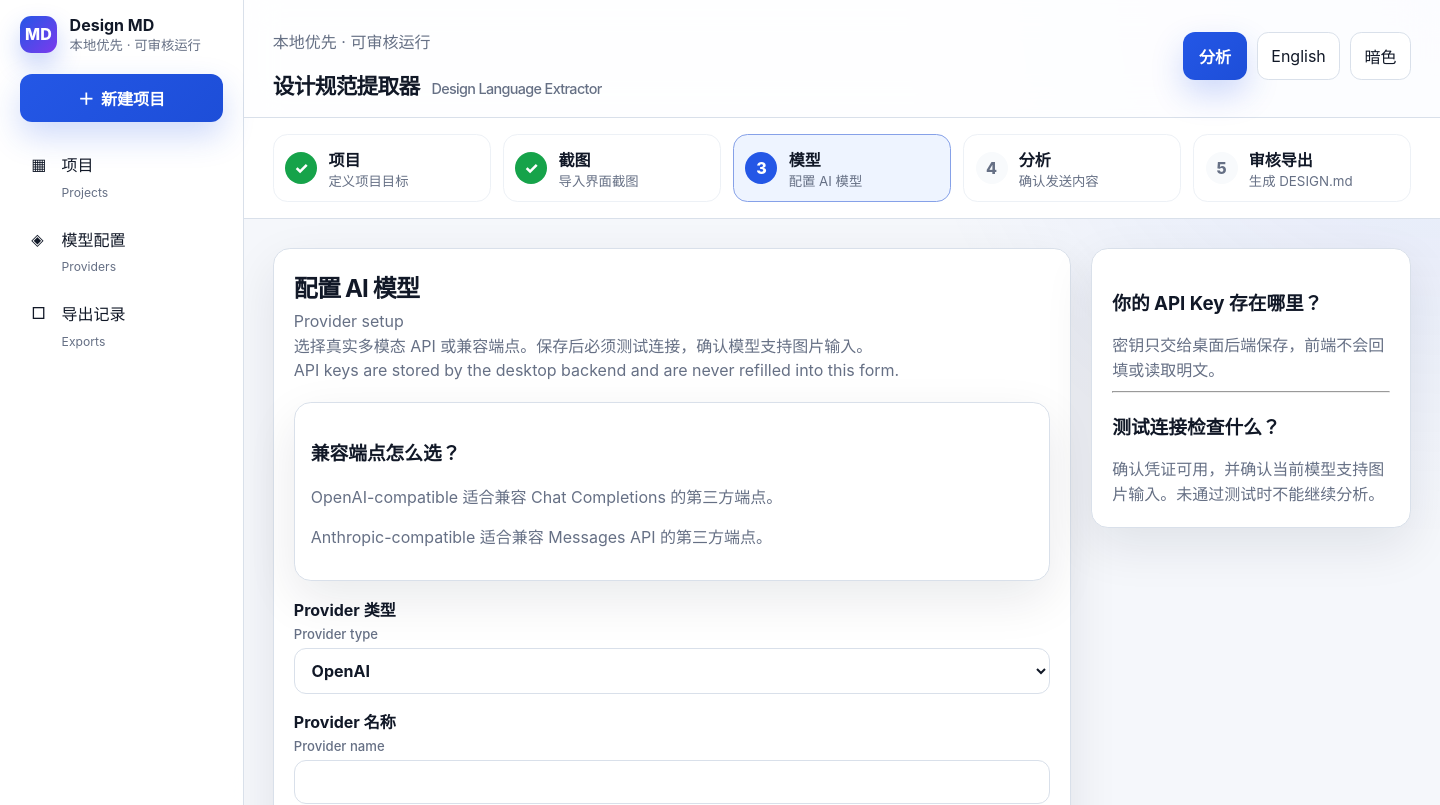
Test: ProviderSettingsPage › saves an OpenAI-compatible provider and shows only a secure key placeholder
This screenshot has width=1440, height=805.
Expected: the text "配置 AI 模型" is shown, [789,171,862,190]
Expected: the text "OpenAI-compatible 适合兼容 Chat Completions 的第三方端点。" is shown, [311,487,782,507]
Select "OpenAI-compatible" in the dropdown labelled "Provider type" at {"x": 672, "y": 671}, box [294,648,1050,694]
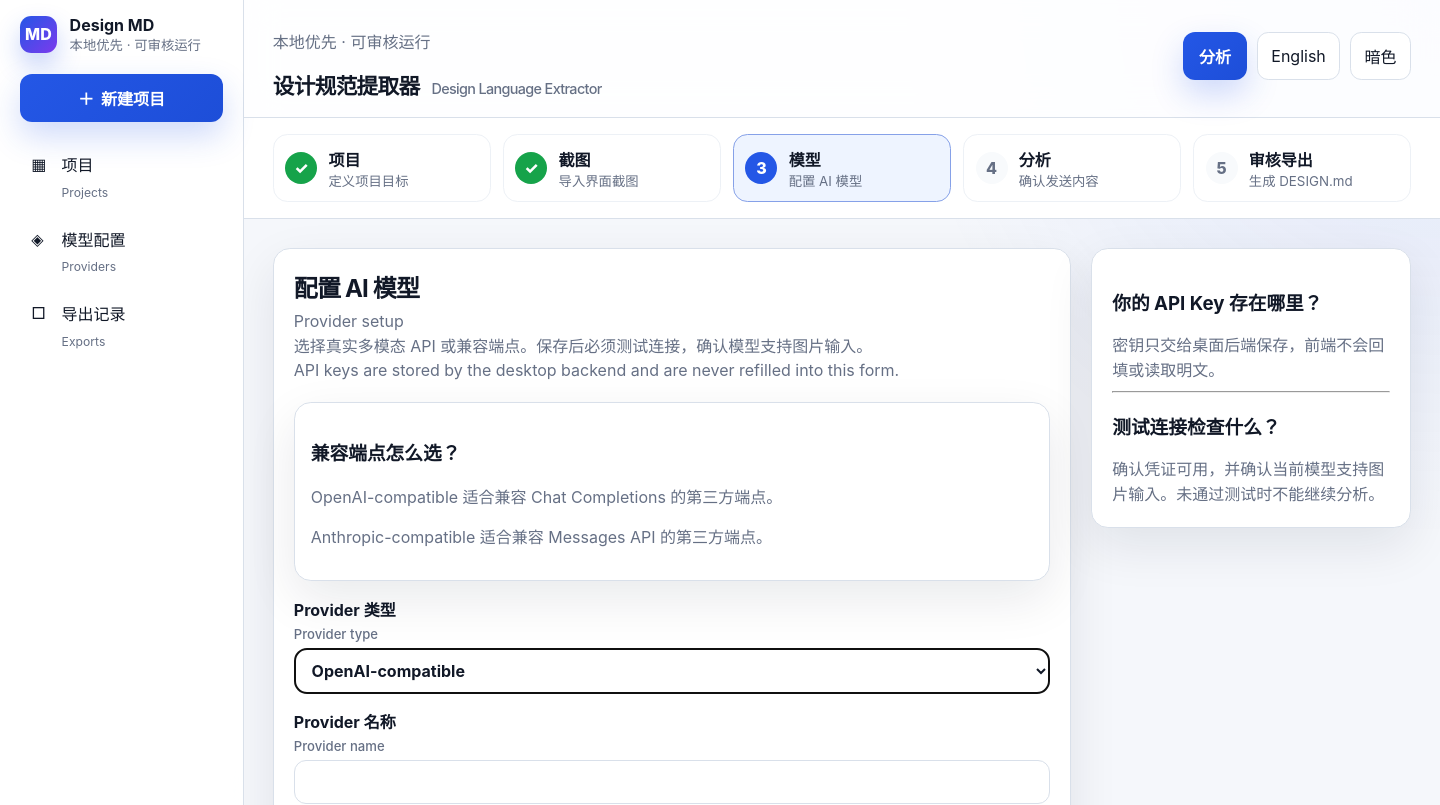
Type "My endpoint" into the field labelled "Provider name" at {"x": 672, "y": 782}, box [294,760,1050,804]
(page scrolled)
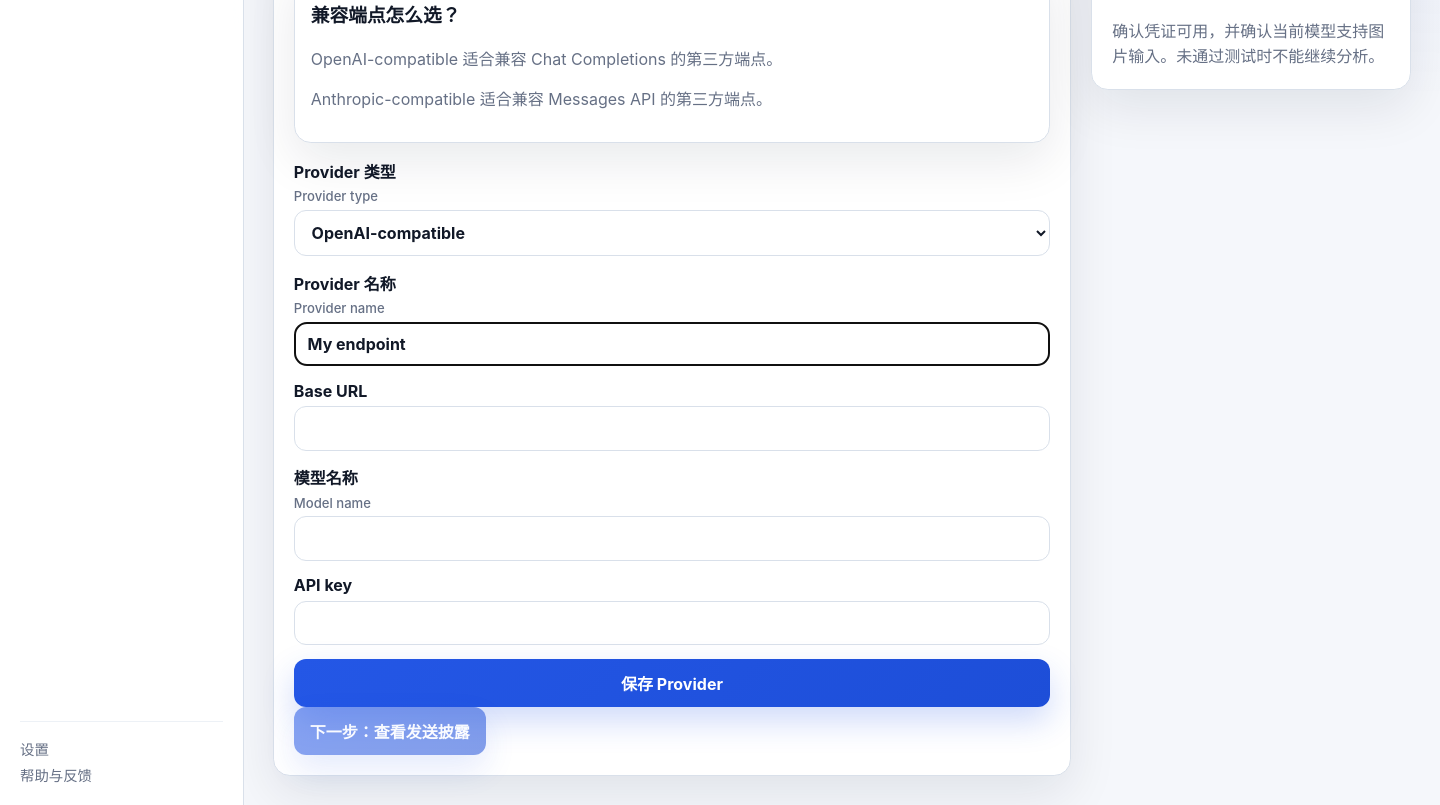
Type "https://ai.example.com/v1" into the field labelled "Base URL" at {"x": 672, "y": 428}, box [294,406,1050,451]
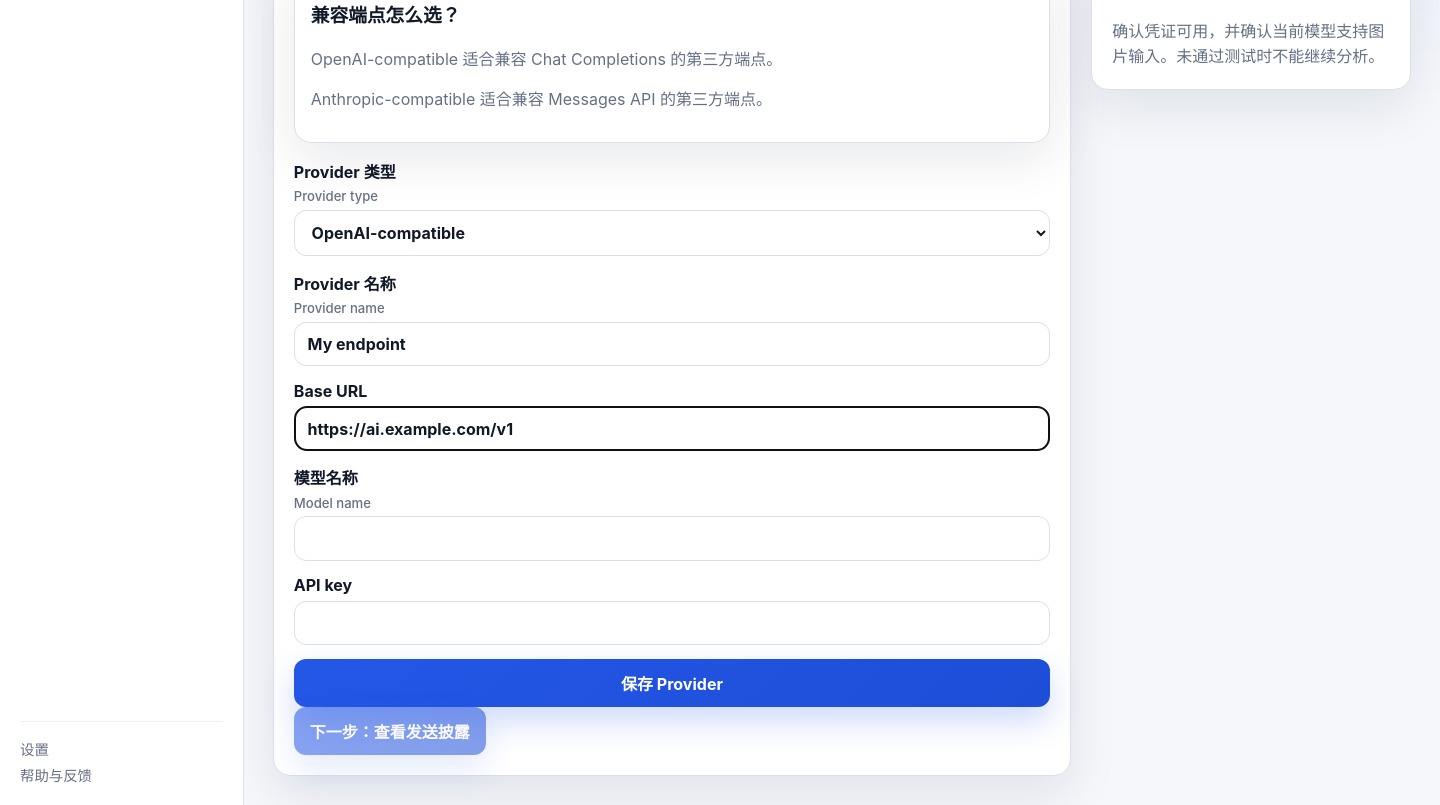
Type "vision-model" into the field labelled "Model name" at {"x": 672, "y": 538}, box [294,516,1050,561]
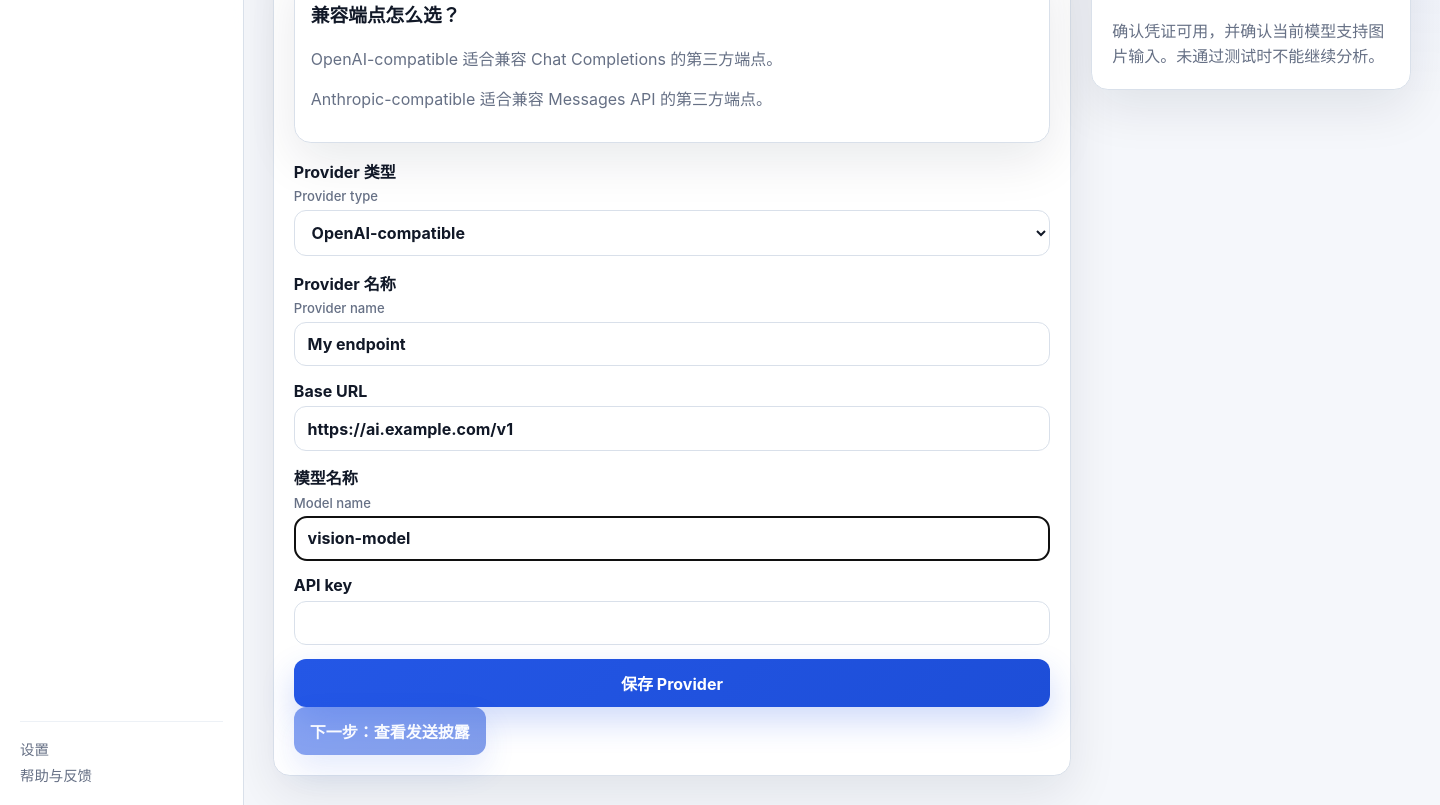
Type "sk-secret" into the password field labelled "API key" at {"x": 672, "y": 623}, box [294,601,1050,645]
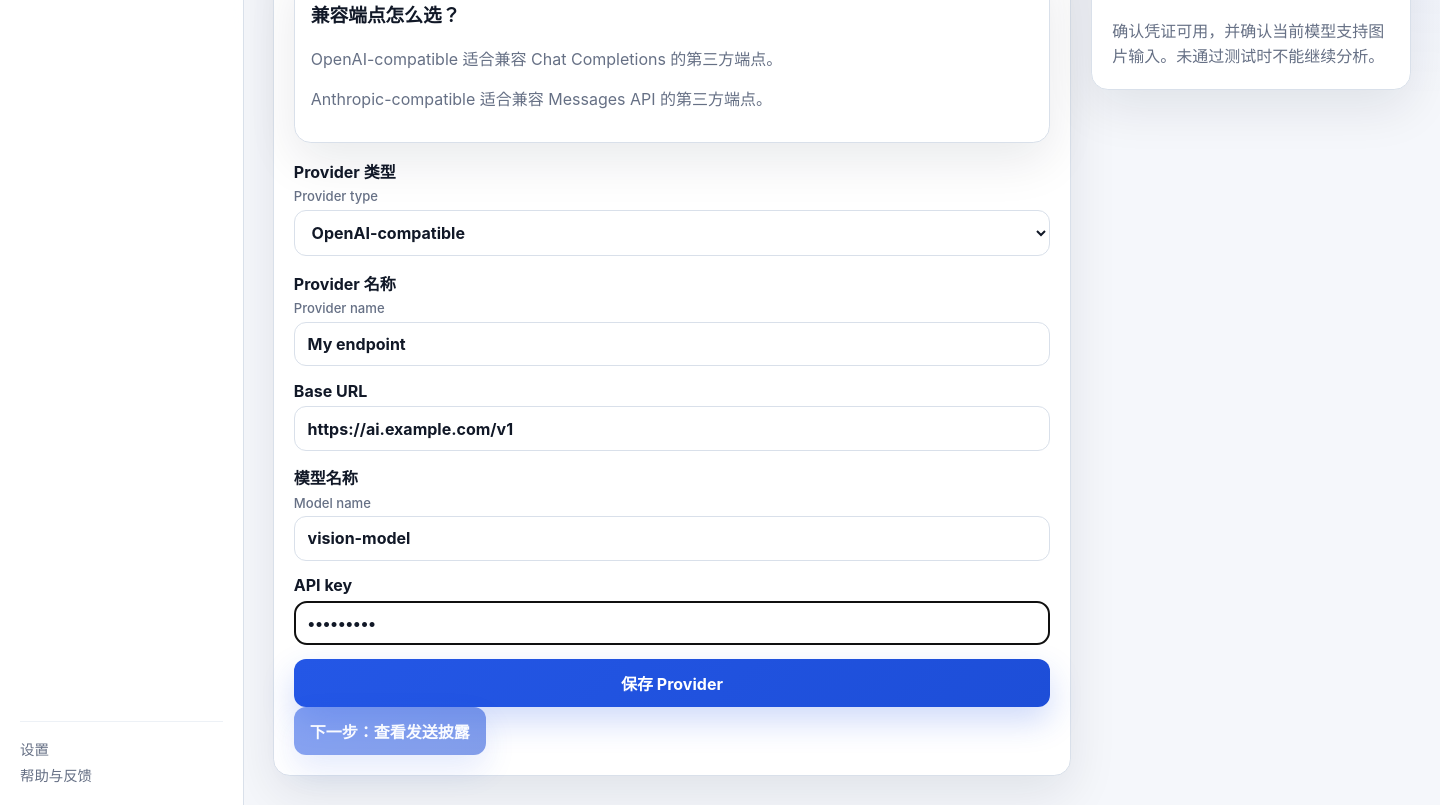
Click the button with aria-label "Save provider" at {"x": 672, "y": 683}, box [294,659,1050,707]
(page scrolled)
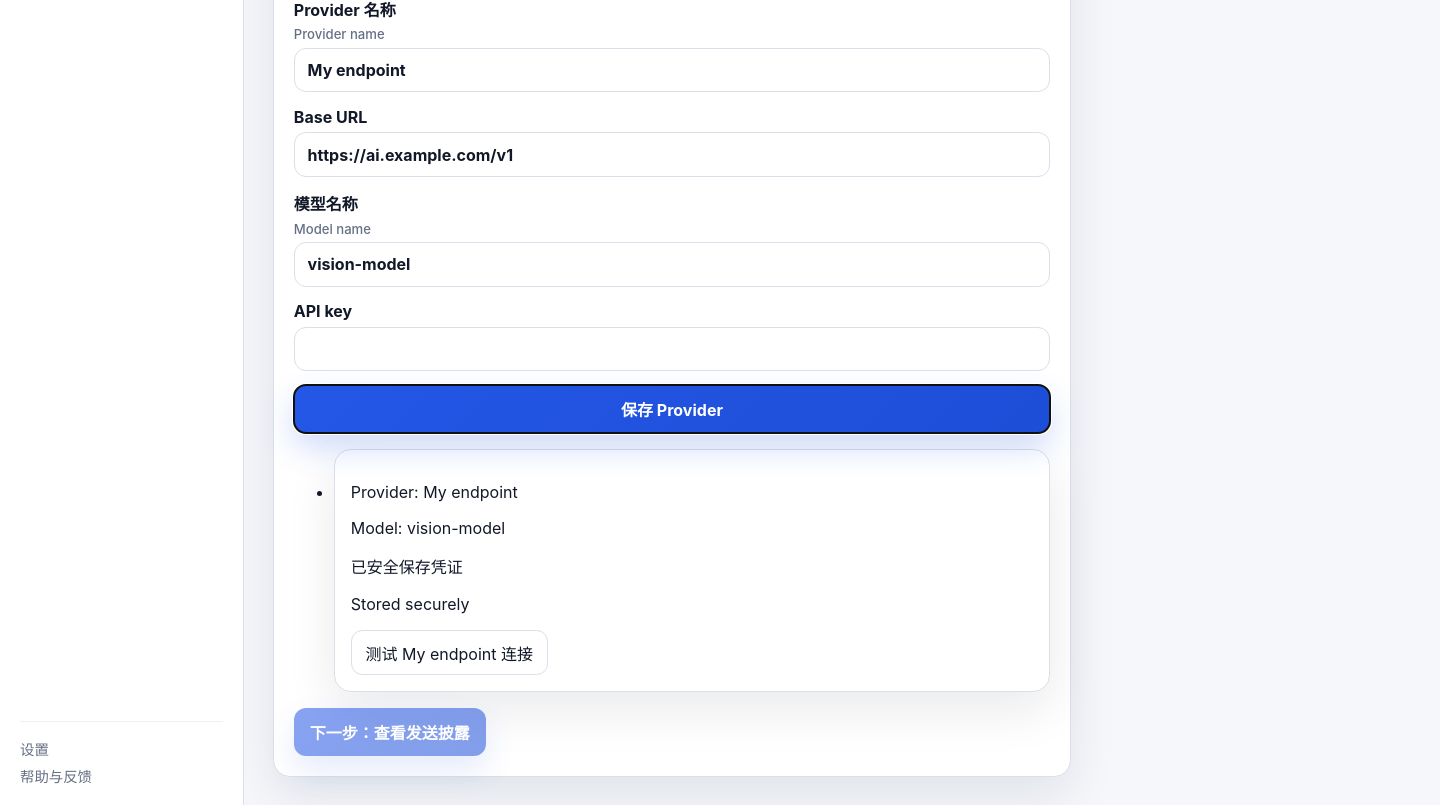
Result: the text "Stored securely" is shown at [351,594,470,614]
